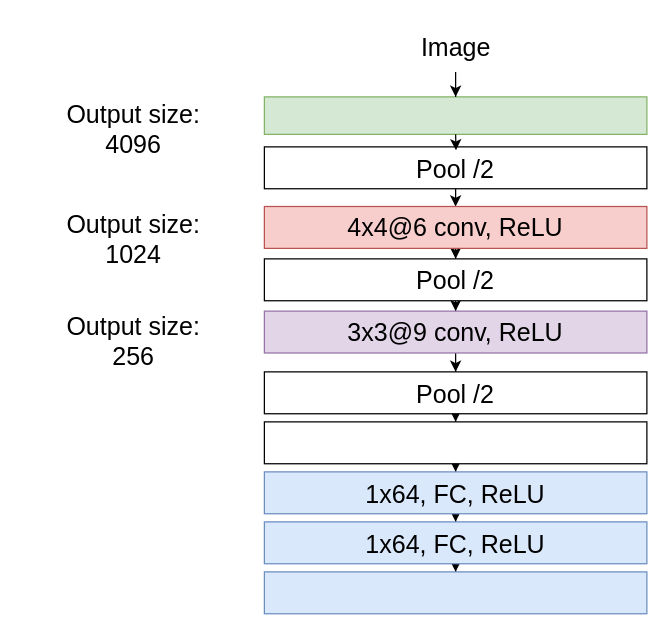
This 669x635 diagram has some shape labels left out. The box of each missing label's shape, as (x1, y1, x2, y2) in pixels:
1x1, FC, Linear: (263, 571, 647, 614)
5x5@3 conv, ReLU: (263, 96, 647, 134)
Flatten: (263, 421, 647, 464)
